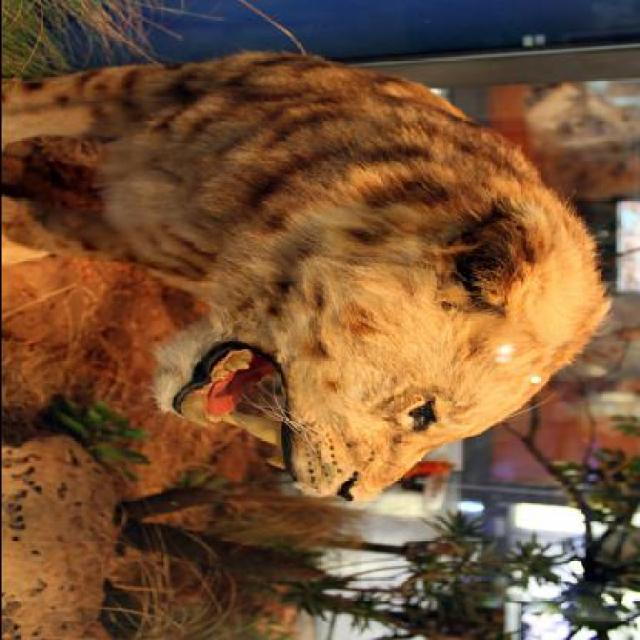Lion: (1, 2, 617, 530)
